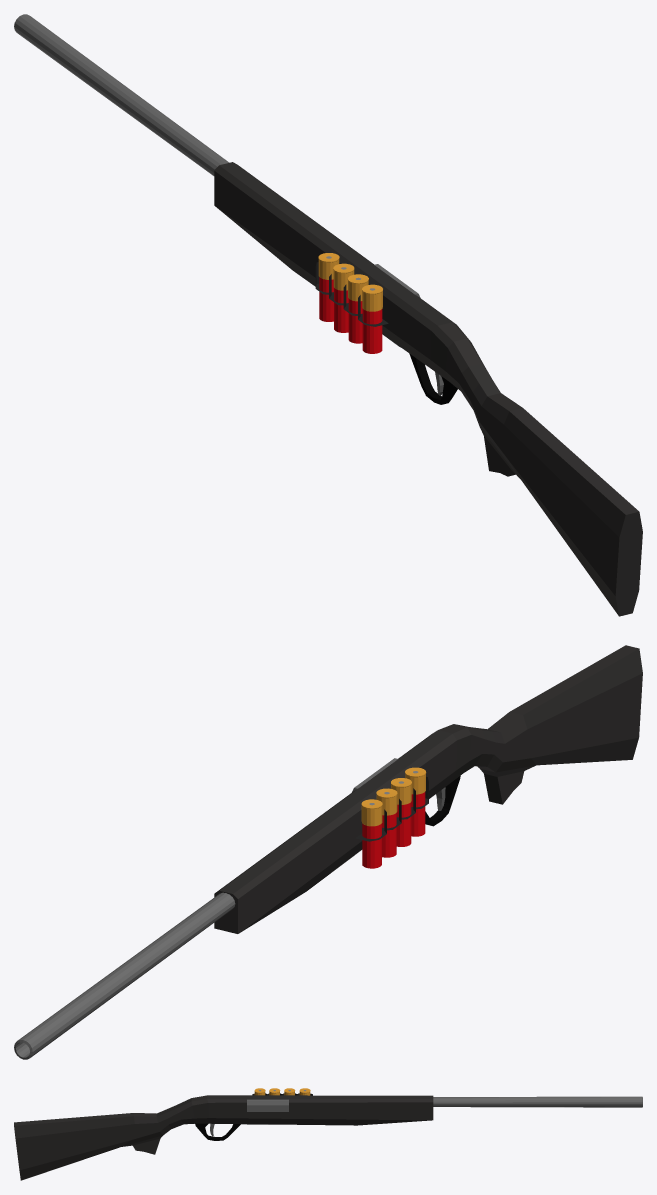
File: Shotgun.fbx
The picture shows the model from 3 angles, top to bottom: view 1: azimuth 30°, elevation 25°; view 2: azimuth 150°, elevation 25°; view 3: azimuth 270°, elevation 25°; orthographic projection. The views are drawn at different scales.
Parts seen in each view (by area): view 1: Cube.013; view 2: Cube.013; view 3: Cube.013.
Boxes of the visible parts, x1,y1,x2,y2 form: Cube.013: (14, 14, 642, 616); Cube.013: (14, 645, 642, 1059); Cube.013: (14, 1088, 642, 1180).
Bounding box in the file's own units: 19.34 × 63.4 × 435.
